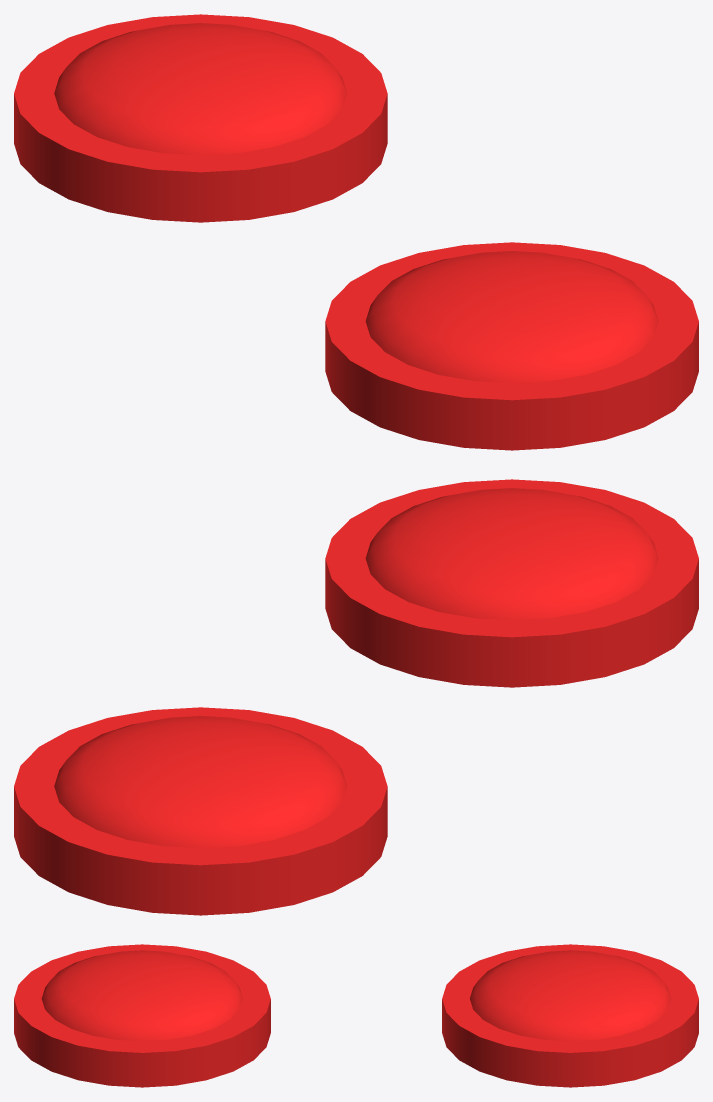
The model's file is Wire.obj.
3 views of the same model, one above another, from view 1: azimuth 30°, elevation 25°; view 2: azimuth 150°, elevation 25°; view 3: azimuth 270°, elevation 25° (orthographic). The views are drawn at different scales.
Parts seen in each view (by area): view 1: InputB, InputA; view 2: InputB, InputA; view 3: InputB, InputA.
Part boxes in pixels (<box>): InputB: <box>325,242,698,450</box>; InputA: <box>14,14,387,222</box>; InputB: <box>325,479,698,687</box>; InputA: <box>14,707,387,915</box>; InputB: <box>14,944,270,1087</box>; InputA: <box>442,944,698,1087</box>.
Size of the model in its own units: 0.6 by 0.15 by 1.6.
